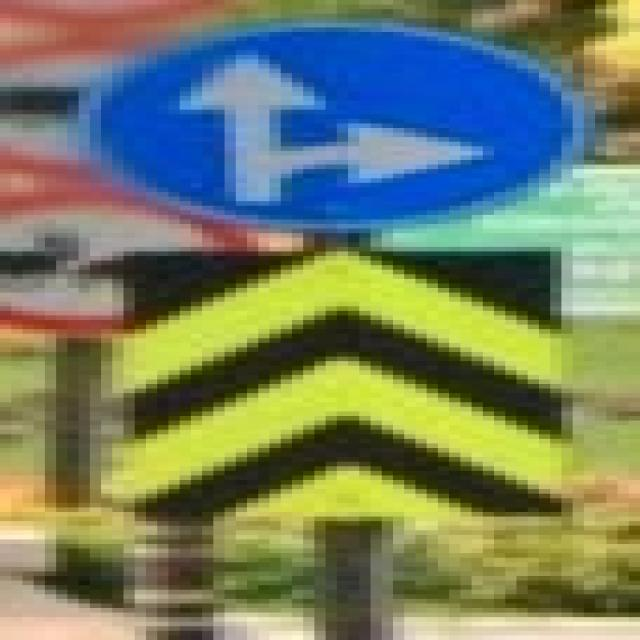Straight or Right: (80, 24, 551, 229)
